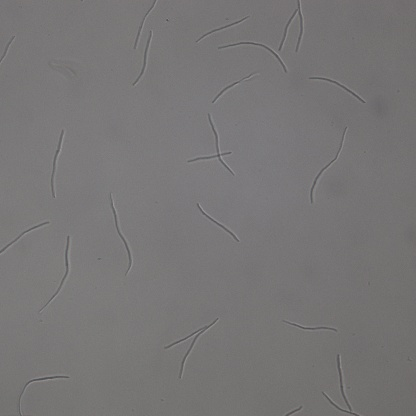Sensitive: (163, 318, 218, 379), (187, 111, 236, 176), (310, 124, 347, 204), (322, 354, 361, 416), (40, 235, 71, 309), (17, 374, 70, 416), (107, 194, 132, 277), (219, 42, 288, 71), (197, 203, 240, 241), (311, 75, 366, 104), (1, 221, 49, 253), (196, 13, 250, 41), (214, 71, 257, 102), (279, 1, 304, 50), (50, 127, 66, 196), (133, 30, 153, 85), (135, 1, 156, 48), (284, 320, 337, 334)
